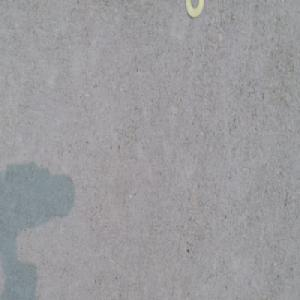Washer: (186, 0, 203, 18)
